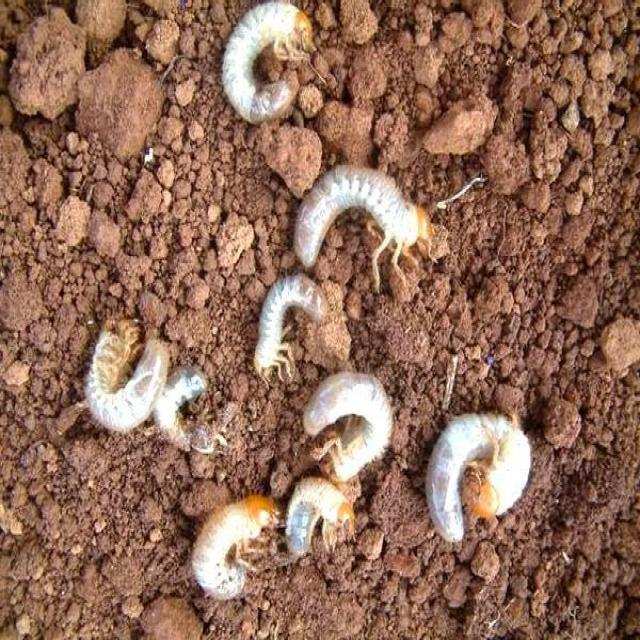grub: (287, 366, 398, 495), (290, 167, 427, 271), (419, 409, 532, 530), (200, 7, 316, 121), (169, 483, 280, 600), (78, 310, 169, 438), (239, 271, 334, 375), (277, 486, 365, 568)
